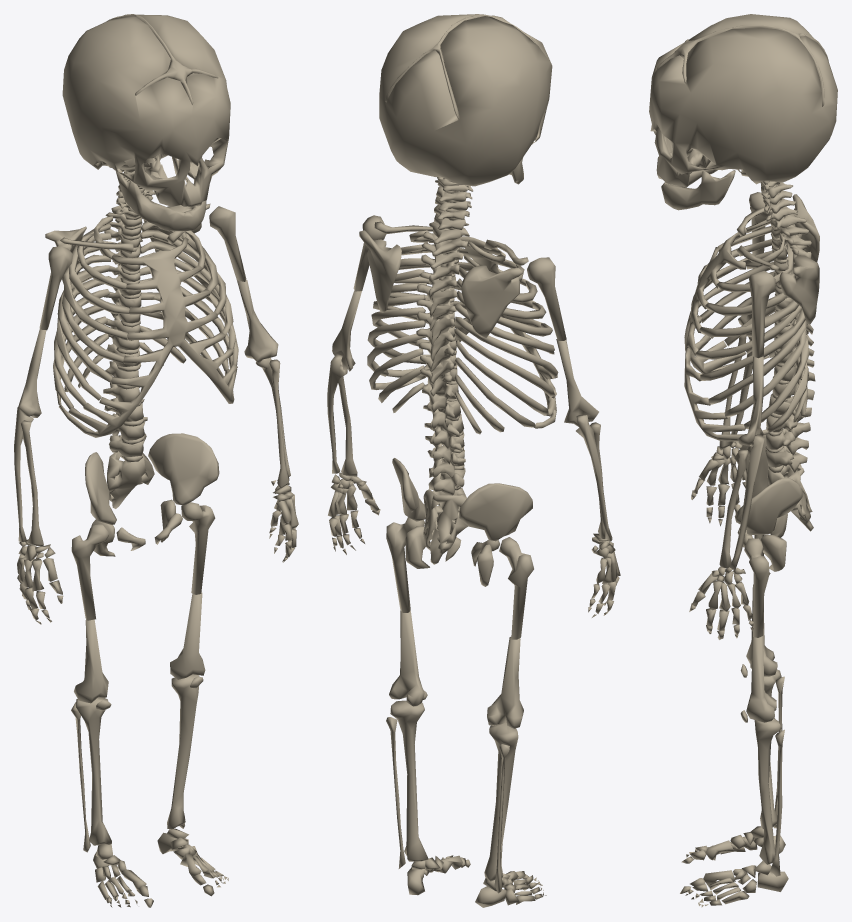
The model's file is pediatric_infant_female.skeletal.LOD3.glb.
3 renders of one model, left to right at view 1: azimuth 30°, elevation 25°; view 2: azimuth 150°, elevation 25°; view 3: azimuth 270°, elevation 25°, orthographic. The views are drawn at different scales.
Visible parts, largest first — view 1: PEDIATRIC.INFANT.FEMALE.SKELETAL.CRANIUM_CORTICAL, PEDIATRIC.INFANT.FEMALE.SKELETAL.RIBS_CORTICAL, PEDIATRIC.INFANT.FEMALE.SKELETAL.CARTILAGE_TRUNK, PEDIATRIC.INFANT.FEMALE.SKELETAL.PELVIS_CORTICAL, PEDIATRIC.INFANT.FEMALE.SKELETAL.TIBIAE_CORTICAL, PEDIATRIC.INFANT.FEMALE.SKELETAL.WRISTS_AND_HAND_BONES_CORTI, PEDIATRIC.INFANT.FEMALE.SKELETAL.ANKLES_AND_FOOT_CORTICAL, PEDIATRIC.INFANT.FEMALE.SKELETAL.FEMORA_LOWER_CORTICAL, PEDIATRIC.INFANT.FEMALE.SKELETAL.FEMORA_UPPER_CORTICAL, PEDIATRIC.INFANT.FEMALE.SKELETAL.THORACIC_SPINE_CORTICAL, PEDIATRIC.INFANT.FEMALE.SKELETAL.HUMERI_LOWER_CORTICAL, PEDIATRIC.INFANT.FEMALE.SKELETAL.HUMERI_UPPER_CORTICAL (+9 smaller); view 2: PEDIATRIC.INFANT.FEMALE.SKELETAL.CRANIUM_CORTICAL, PEDIATRIC.INFANT.FEMALE.SKELETAL.RIBS_CORTICAL, PEDIATRIC.INFANT.FEMALE.SKELETAL.PELVIS_CORTICAL, PEDIATRIC.INFANT.FEMALE.SKELETAL.THORACIC_SPINE_CORTICAL, PEDIATRIC.INFANT.FEMALE.SKELETAL.SCAPULAE_CORTICAL, PEDIATRIC.INFANT.FEMALE.SKELETAL.TIBIAE_CORTICAL, PEDIATRIC.INFANT.FEMALE.SKELETAL.FEMORA_LOWER_CORTICAL, PEDIATRIC.INFANT.FEMALE.SKELETAL.WRISTS_AND_HAND_BONES_CORTI, PEDIATRIC.INFANT.FEMALE.SKELETAL.CARTILAGE_TRUNK, PEDIATRIC.INFANT.FEMALE.SKELETAL.FEMORA_UPPER_CORTICAL, PEDIATRIC.INFANT.FEMALE.SKELETAL.LUMBAR_SPINE_CORTICAL, PEDIATRIC.INFANT.FEMALE.SKELETAL.ANKLES_AND_FOOT_CORTICAL (+9 smaller); view 3: PEDIATRIC.INFANT.FEMALE.SKELETAL.CRANIUM_CORTICAL, PEDIATRIC.INFANT.FEMALE.SKELETAL.RIBS_CORTICAL, PEDIATRIC.INFANT.FEMALE.SKELETAL.CARTILAGE_TRUNK, PEDIATRIC.INFANT.FEMALE.SKELETAL.WRISTS_AND_HAND_BONES_CORTI, PEDIATRIC.INFANT.FEMALE.SKELETAL.PELVIS_CORTICAL, PEDIATRIC.INFANT.FEMALE.SKELETAL.ANKLES_AND_FOOT_CORTICAL, PEDIATRIC.INFANT.FEMALE.SKELETAL.SCAPULAE_CORTICAL, PEDIATRIC.INFANT.FEMALE.SKELETAL.TIBIAE_CORTICAL, PEDIATRIC.INFANT.FEMALE.SKELETAL.LUMBAR_SPINE_CORTICAL, PEDIATRIC.INFANT.FEMALE.SKELETAL.FEMORA_LOWER_CORTICAL, PEDIATRIC.INFANT.FEMALE.SKELETAL.HUMERI_UPPER_CORTICAL, PEDIATRIC.INFANT.FEMALE.SKELETAL.MANDIBLE_CORTICAL (+10 smaller).
Part boxes in pixels (box(x1,y1,x2,y2)): PEDIATRIC.INFANT.FEMALE.SKELETAL.CRANIUM_CORTICAL: box(62, 14, 230, 207); PEDIATRIC.INFANT.FEMALE.SKELETAL.RIBS_CORTICAL: box(53, 216, 238, 409); PEDIATRIC.INFANT.FEMALE.SKELETAL.CARTILAGE_TRUNK: box(59, 187, 237, 462); PEDIATRIC.INFANT.FEMALE.SKELETAL.PELVIS_CORTICAL: box(85, 433, 219, 556); PEDIATRIC.INFANT.FEMALE.SKELETAL.TIBIAE_CORTICAL: box(75, 674, 199, 845); PEDIATRIC.INFANT.FEMALE.SKELETAL.WRISTS_AND_HAND_BONES_CORTI: box(17, 480, 298, 624); PEDIATRIC.INFANT.FEMALE.SKELETAL.ANKLES_AND_FOOT_CORTICAL: box(93, 828, 228, 907); PEDIATRIC.INFANT.FEMALE.SKELETAL.FEMORA_LOWER_CORTICAL: box(74, 592, 205, 703); PEDIATRIC.INFANT.FEMALE.SKELETAL.FEMORA_UPPER_CORTICAL: box(71, 502, 215, 620); PEDIATRIC.INFANT.FEMALE.SKELETAL.THORACIC_SPINE_CORTICAL: box(103, 211, 142, 366); PEDIATRIC.INFANT.FEMALE.SKELETAL.HUMERI_LOWER_CORTICAL: box(18, 279, 278, 417); PEDIATRIC.INFANT.FEMALE.SKELETAL.HUMERI_UPPER_CORTICAL: box(39, 206, 246, 330); PEDIATRIC.INFANT.FEMALE.SKELETAL.CRANIUM_CORTICAL: box(379, 14, 552, 186); PEDIATRIC.INFANT.FEMALE.SKELETAL.RIBS_CORTICAL: box(367, 230, 558, 434); PEDIATRIC.INFANT.FEMALE.SKELETAL.PELVIS_CORTICAL: box(392, 458, 532, 586); PEDIATRIC.INFANT.FEMALE.SKELETAL.THORACIC_SPINE_CORTICAL: box(416, 231, 468, 412); PEDIATRIC.INFANT.FEMALE.SKELETAL.SCAPULAE_CORTICAL: box(359, 230, 523, 337); PEDIATRIC.INFANT.FEMALE.SKELETAL.TIBIAE_CORTICAL: box(390, 700, 518, 881); PEDIATRIC.INFANT.FEMALE.SKELETAL.FEMORA_LOWER_CORTICAL: box(389, 610, 523, 728); PEDIATRIC.INFANT.FEMALE.SKELETAL.WRISTS_AND_HAND_BONES_CORTI: box(328, 472, 620, 617); PEDIATRIC.INFANT.FEMALE.SKELETAL.CARTILAGE_TRUNK: box(375, 191, 557, 490); PEDIATRIC.INFANT.FEMALE.SKELETAL.FEMORA_UPPER_CORTICAL: box(386, 517, 533, 639); PEDIATRIC.INFANT.FEMALE.SKELETAL.LUMBAR_SPINE_CORTICAL: box(423, 400, 465, 495); PEDIATRIC.INFANT.FEMALE.SKELETAL.ANKLES_AND_FOOT_CORTICAL: box(407, 855, 546, 907); PEDIATRIC.INFANT.FEMALE.SKELETAL.CRANIUM_CORTICAL: box(649, 14, 837, 186); PEDIATRIC.INFANT.FEMALE.SKELETAL.RIBS_CORTICAL: box(695, 219, 809, 432); PEDIATRIC.INFANT.FEMALE.SKELETAL.CARTILAGE_TRUNK: box(684, 184, 790, 472); PEDIATRIC.INFANT.FEMALE.SKELETAL.WRISTS_AND_HAND_BONES_CORTI: box(689, 441, 753, 639); PEDIATRIC.INFANT.FEMALE.SKELETAL.PELVIS_CORTICAL: box(734, 434, 802, 571); PEDIATRIC.INFANT.FEMALE.SKELETAL.ANKLES_AND_FOOT_CORTICAL: box(680, 826, 788, 907); PEDIATRIC.INFANT.FEMALE.SKELETAL.SCAPULAE_CORTICAL: box(779, 194, 819, 324); PEDIATRIC.INFANT.FEMALE.SKELETAL.TIBIAE_CORTICAL: box(754, 669, 781, 864); PEDIATRIC.INFANT.FEMALE.SKELETAL.LUMBAR_SPINE_CORTICAL: box(765, 383, 814, 472); PEDIATRIC.INFANT.FEMALE.SKELETAL.FEMORA_LOWER_CORTICAL: box(746, 584, 777, 722); PEDIATRIC.INFANT.FEMALE.SKELETAL.HUMERI_UPPER_CORTICAL: box(749, 192, 775, 358); PEDIATRIC.INFANT.FEMALE.SKELETAL.MANDIBLE_CORTICAL: box(661, 161, 735, 210).
Bounding box in the file's own units: 0.2518 × 0.7558 × 0.1511.
